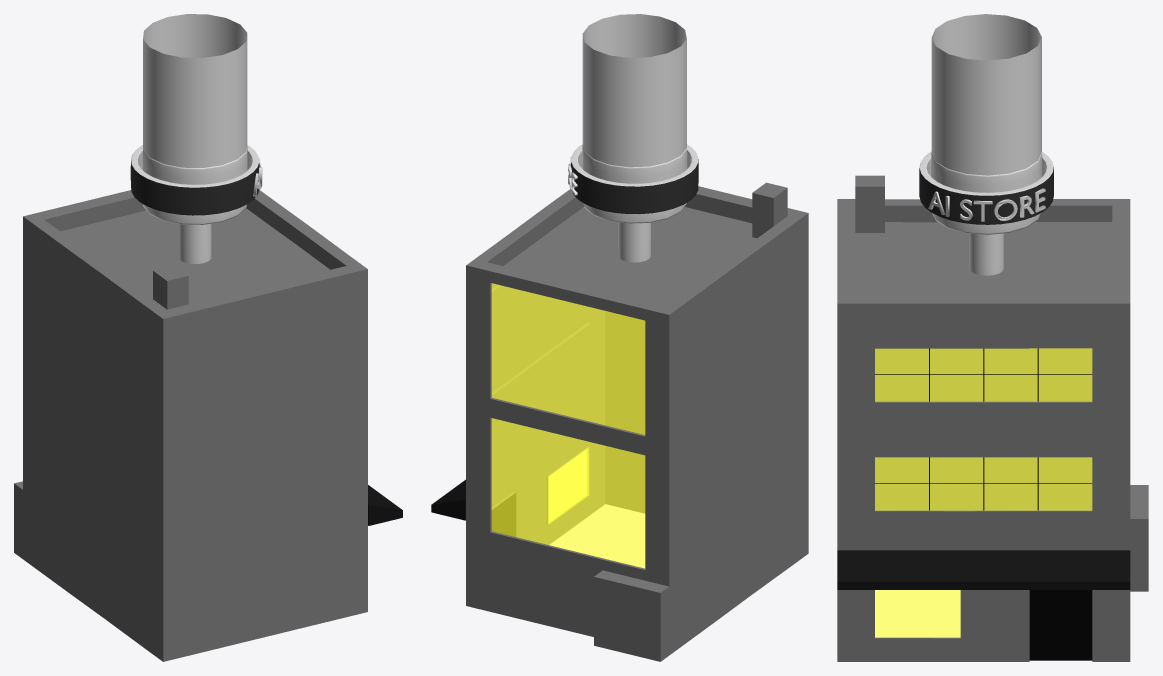
Rendered from aiStore.fbx.
3 views of the same model, side by side, from view 1: azimuth 30°, elevation 25°; view 2: azimuth 150°, elevation 25°; view 3: azimuth 270°, elevation 25° (orthographic). The views are drawn at different scales.
Visible parts, largest first — view 1: aiStore; view 2: aiStore; view 3: aiStore.
Boxes of the visible parts, x1,y1,x2,y2 form: aiStore: [14, 14, 402, 661]; aiStore: [431, 14, 808, 661]; aiStore: [837, 14, 1148, 661].
Bounding box in the file's own units: 777 × 1698 × 837.
